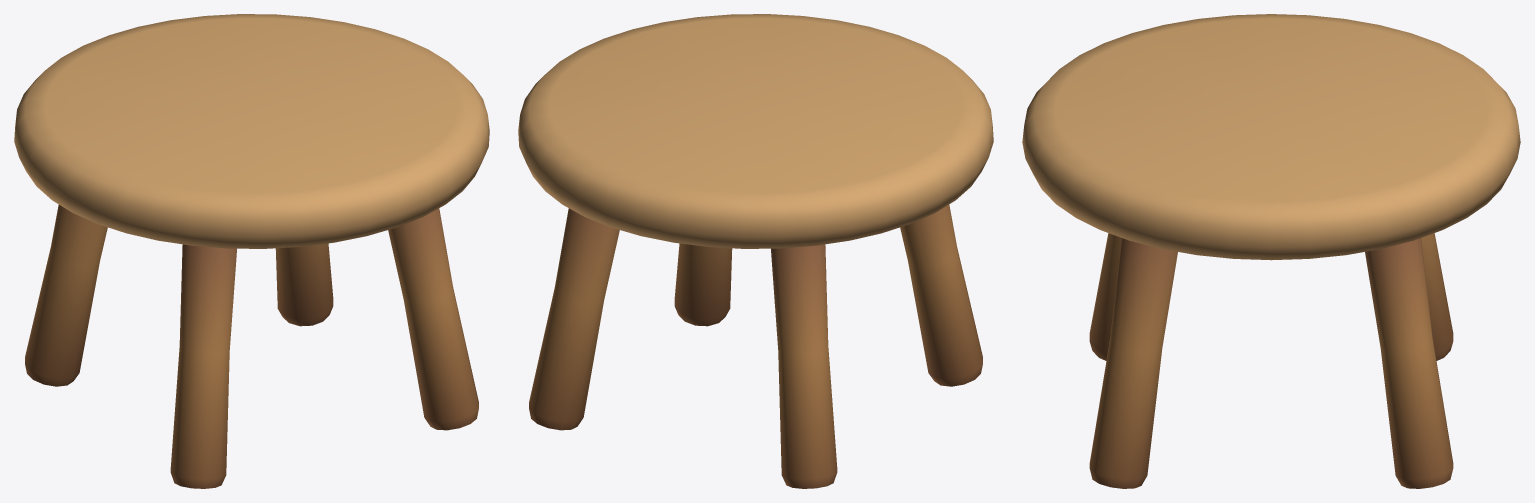
Rendered from table_classic.glb.
The picture shows the model from 3 angles, left to right: view 1: azimuth 30°, elevation 25°; view 2: azimuth 150°, elevation 25°; view 3: azimuth 270°, elevation 25°; orthographic projection. The views are drawn at different scales.
Visible parts, largest first — view 1: table_classic; view 2: table_classic; view 3: table_classic.
Part boxes in pixels (box(x1,y1,x2,y2)): table_classic: box(14, 14, 489, 488); table_classic: box(518, 14, 993, 488); table_classic: box(1022, 14, 1520, 488).
Bounding box in the file's own units: 1.29 × 0.8845 × 1.29.
